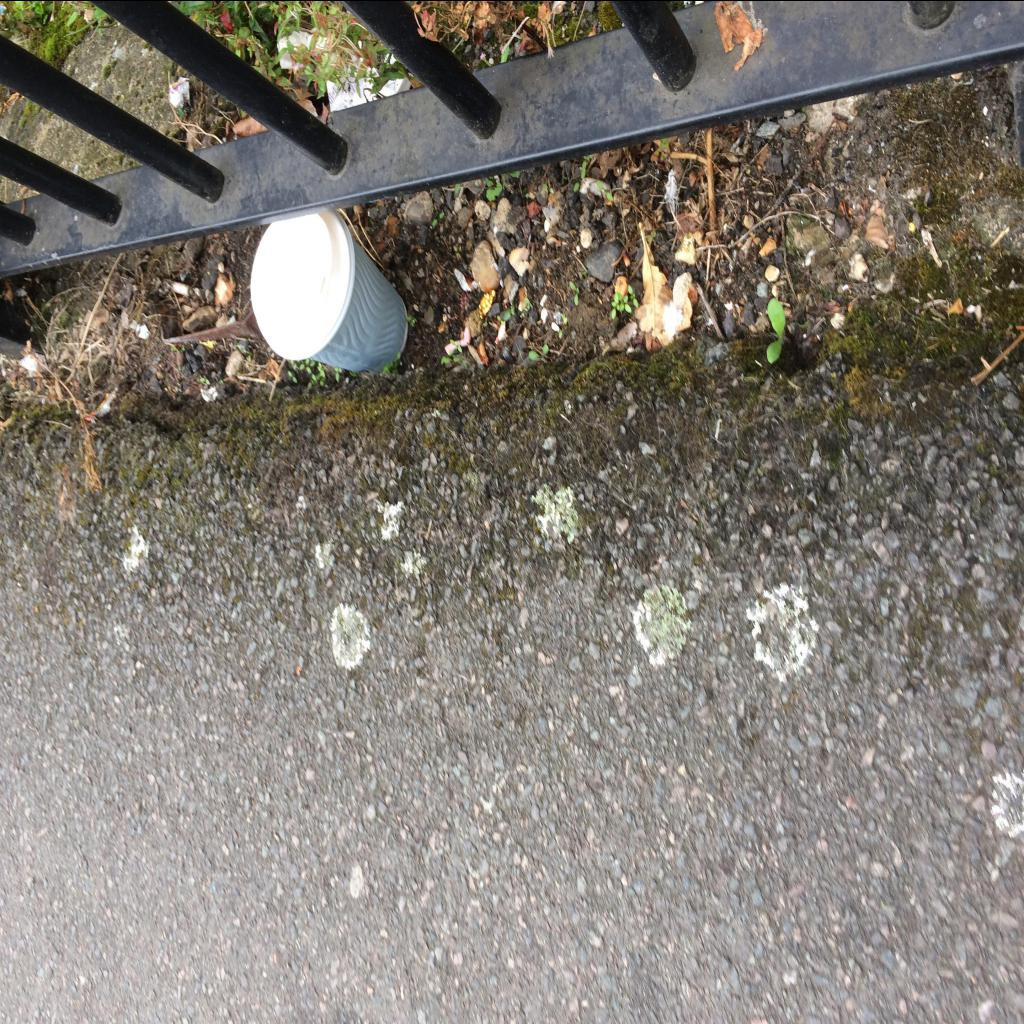Normal paper: (327, 63, 411, 110)
Paper cup: (250, 208, 408, 374)
Plastic lid: (250, 210, 350, 358)
Unlabeled litter: (168, 76, 190, 106)
